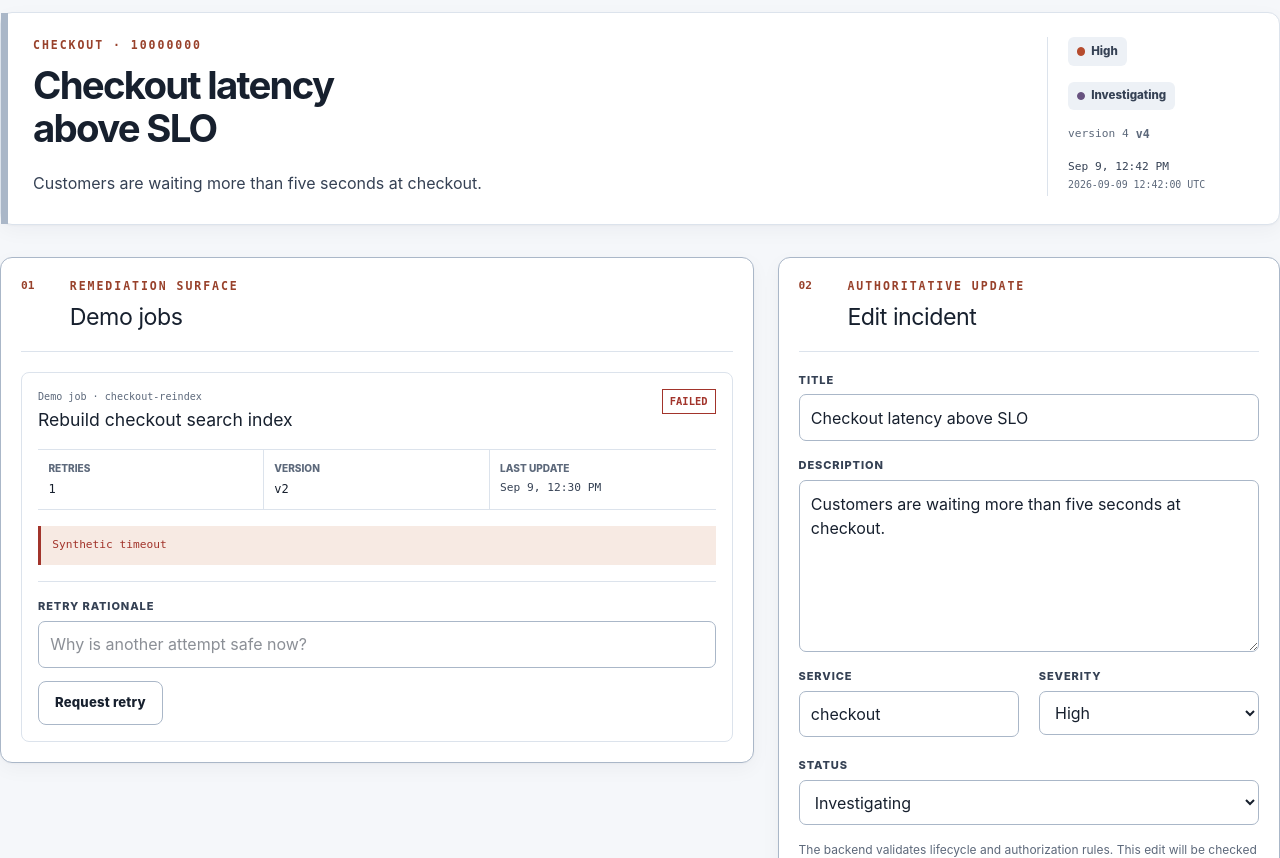
Scenario: IncidentDetailScreen › keeps a stale draft and requires review before deliberate resubmission
Replace the text in the text box labelled "Description" with "My preserved draft with confirmed database evidence." at (1029, 566), box [799,480,1259,652]
(page scrolled)
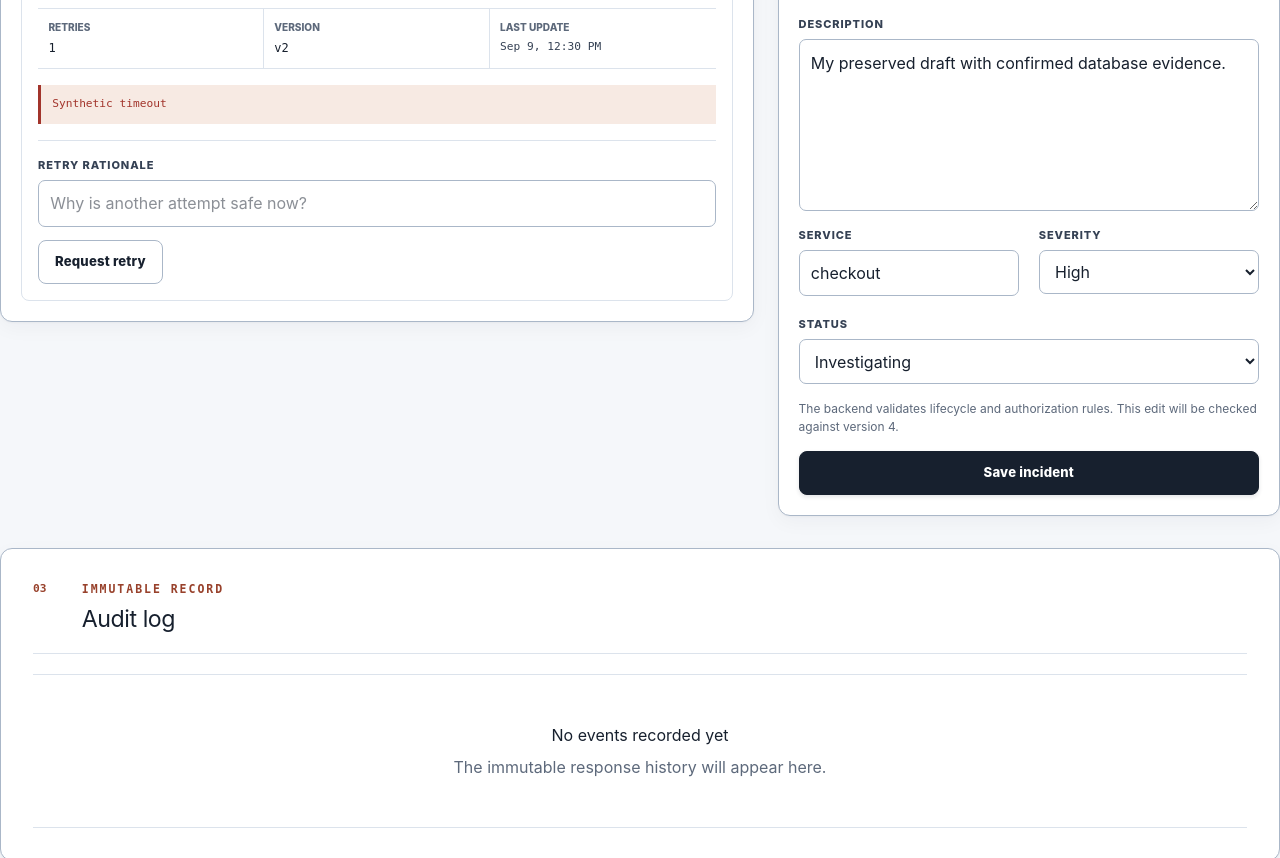
Click the button "Save incident".
click(1029, 473)  # box [799,451,1259,495]
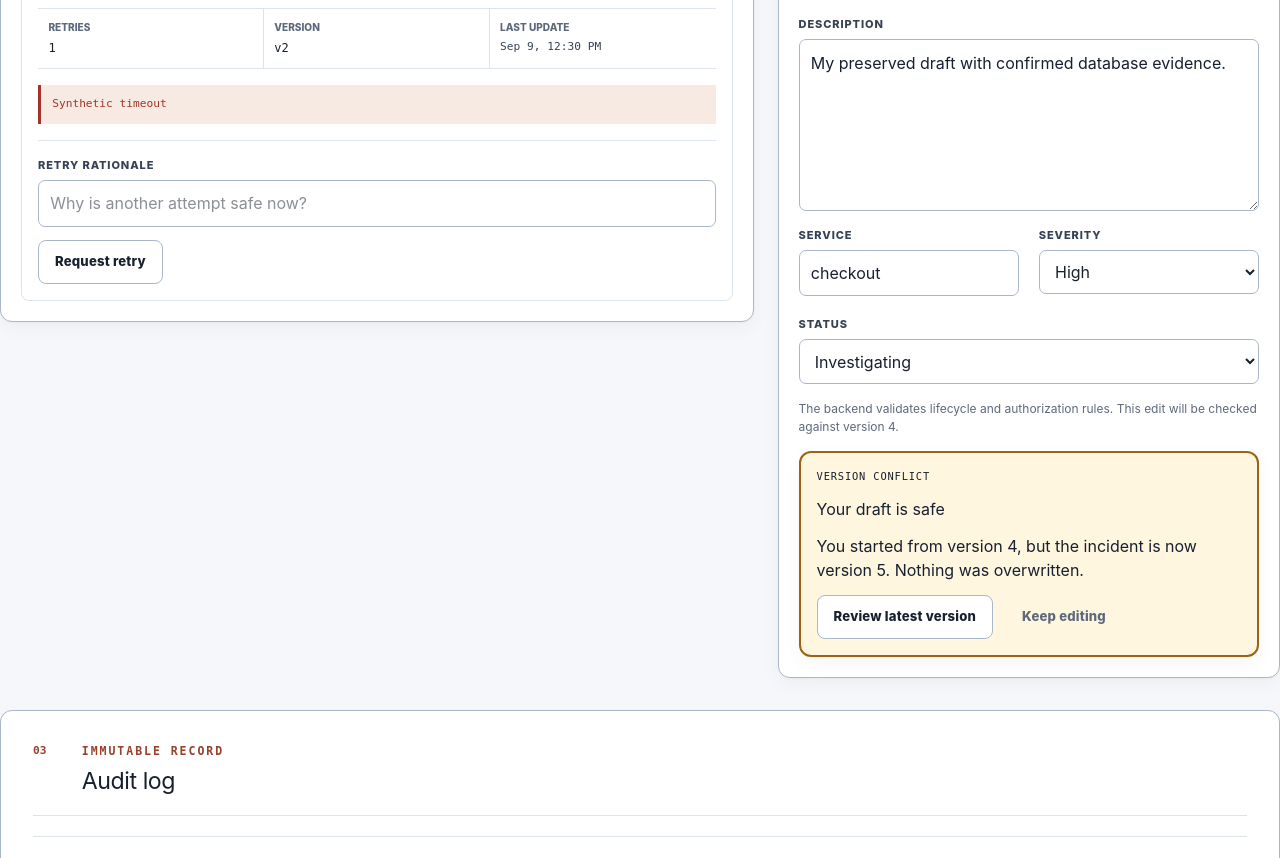
expect the button "Resubmit my draft" is not shown: met
expect the heading "Your draft is safe" is shown: met, box [817,499,945,519]
Click the button "Review latest version".
click(905, 617)  # box [817,595,993,639]
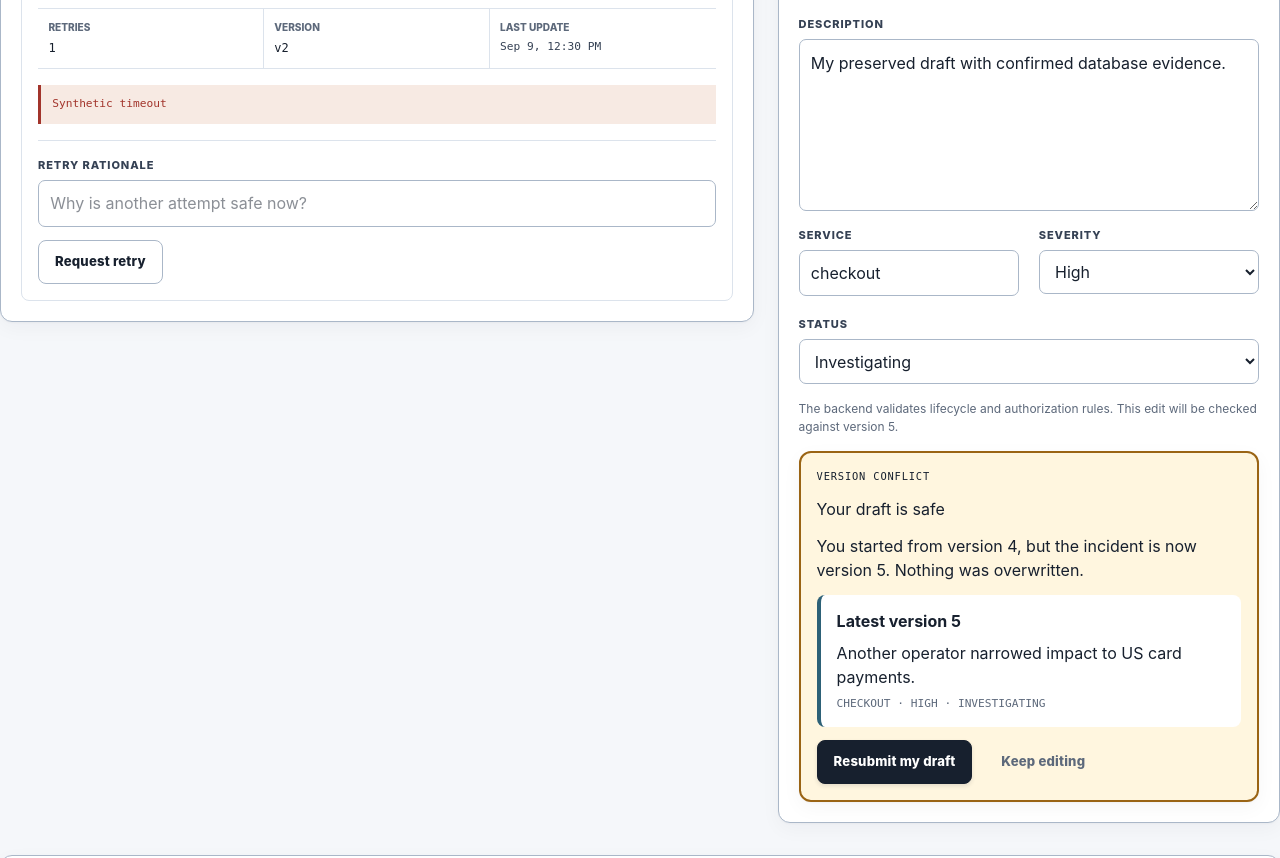
expect the text "Latest version 5" is shown: met, box [837,611,961,631]
expect the text "Another operator narrowed impact to US card payments." is shown: met, box [837,641,1225,689]
Click the button "Resubmit my draft".
click(894, 762)  # box [817,740,972,784]
(page scrolled)
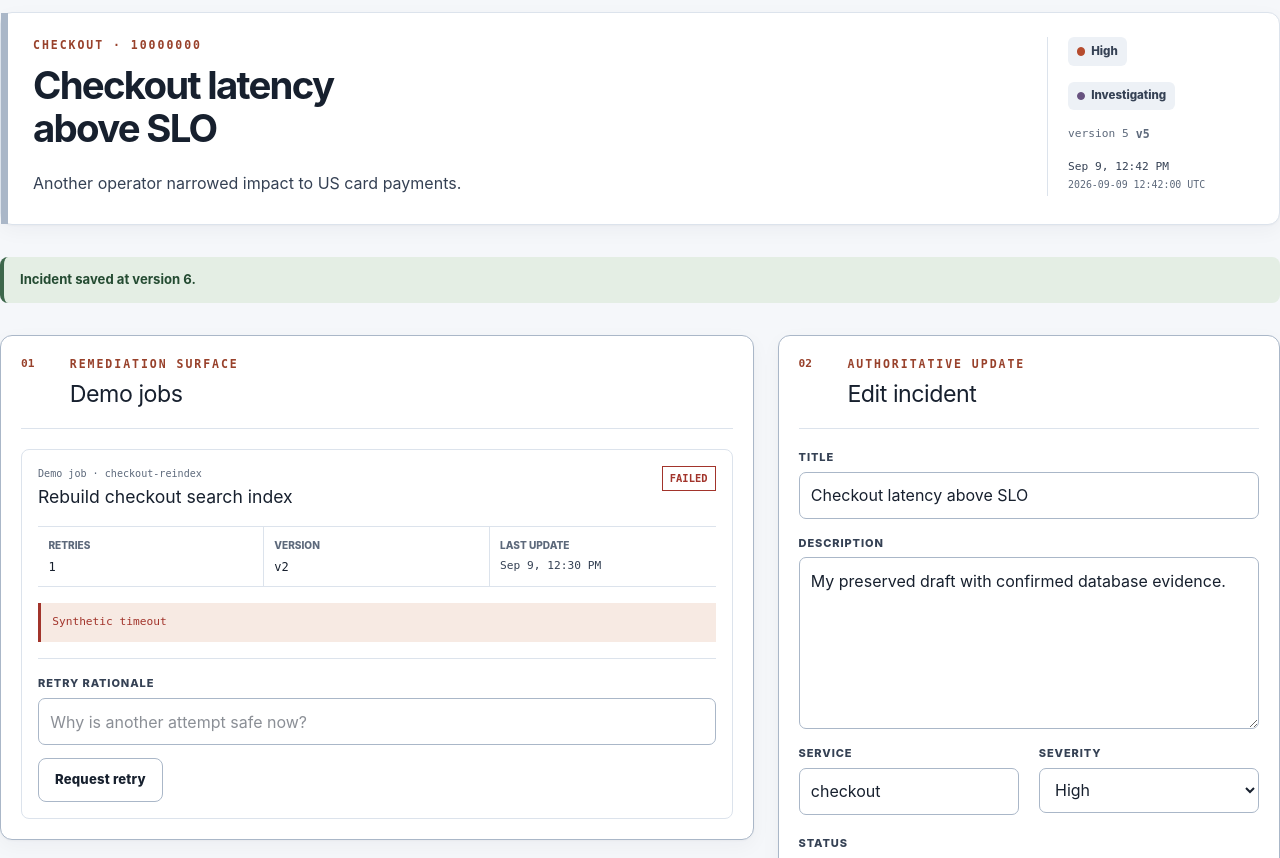
expect the text "Incident saved at version 6." is shown: met, box [0,257,1279,303]
